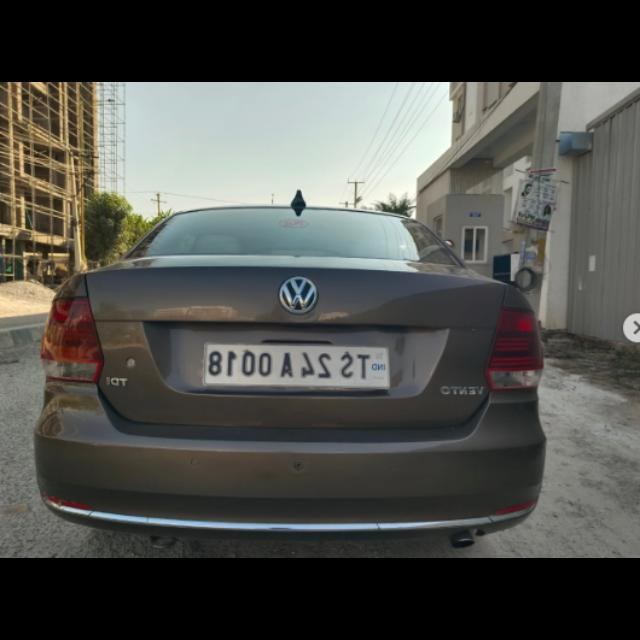vehicles: (29, 197, 538, 546)
